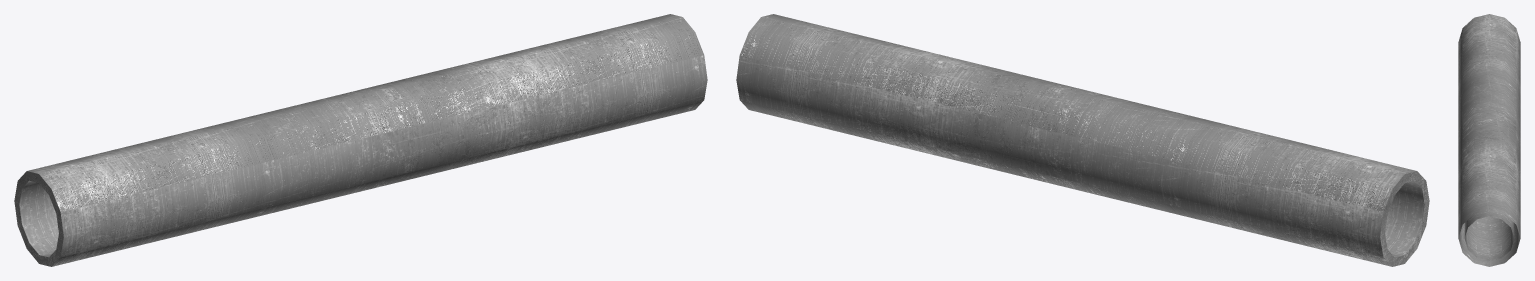
File: AD-2-Rod.obj
3 renders of one model, left to right at view 1: azimuth 30°, elevation 25°; view 2: azimuth 150°, elevation 25°; view 3: azimuth 270°, elevation 25°, orthographic. The views are drawn at different scales.
Visible parts, largest first — view 1: AD-2-Rod; view 2: AD-2-Rod; view 3: AD-2-Rod.
Part boxes in pixels (x1,y1,x2,y2): AD-2-Rod: (14,14,707,266); AD-2-Rod: (736,14,1429,266); AD-2-Rod: (1458,14,1520,266).
Size of the model in its own units: 1.5 by 0.2 by 0.2.
